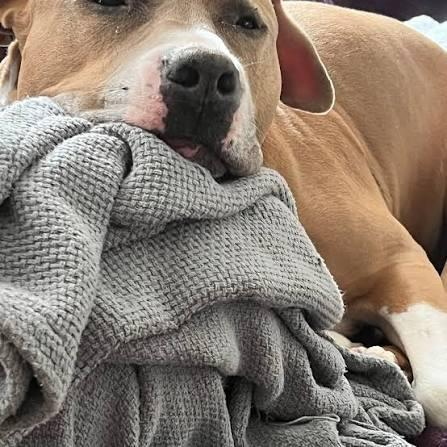adult_dog: (0, 0, 447, 434)
